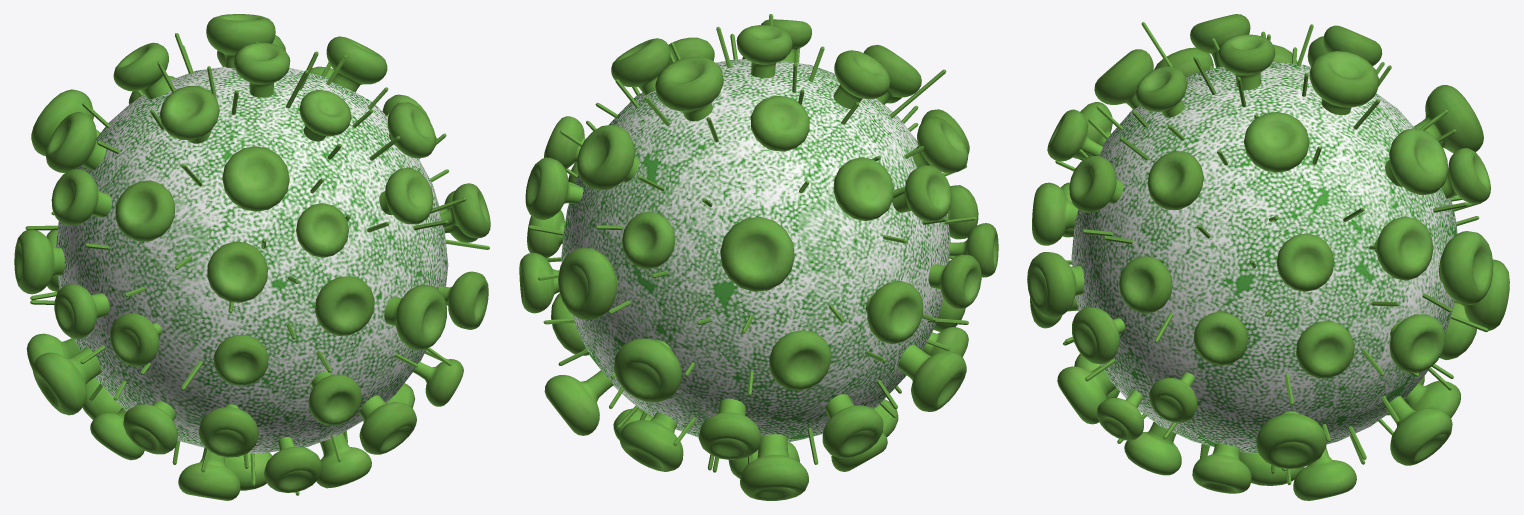
Rendered from hiv1.fbx.
3 views of the same model, side by side, from view 1: azimuth 30°, elevation 25°; view 2: azimuth 150°, elevation 25°; view 3: azimuth 270°, elevation 25° (orthographic).
Parts seen in each view (by area): view 1: polySurface122; view 2: polySurface122; view 3: polySurface122.
Part boxes in pixels (box(x1,y1,x2,y2)): polySurface122: box(14, 14, 490, 500); polySurface122: box(519, 14, 998, 500); polySurface122: box(1027, 14, 1509, 500).
Bounding box in the file's own units: 6.65 × 6.73 × 6.71.
